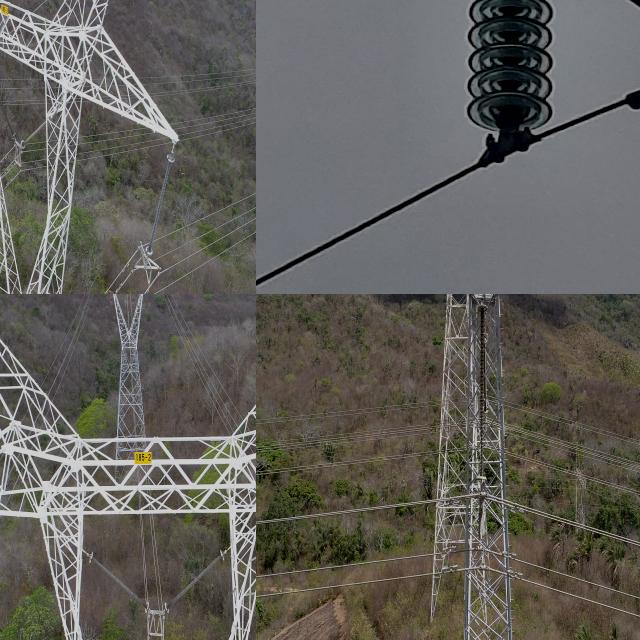杆塔: (0, 313, 256, 640), (0, 0, 183, 294), (464, 294, 517, 640), (438, 294, 476, 618)
正常电缆: (256, 76, 640, 294)
正常绝缘子: (465, 0, 560, 154), (163, 547, 226, 616), (87, 551, 149, 614), (144, 150, 177, 257), (20, 115, 52, 149), (0, 94, 17, 141)
